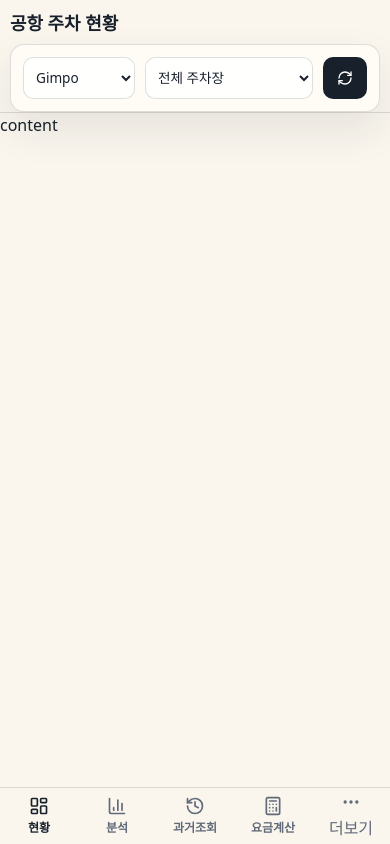
Scenario: AppShell › reveals 백업 through the mobile 더보기 popover
Click the button "더보기".
click(351, 816)  # box top-left (312, 788), bottom-right (389, 843)
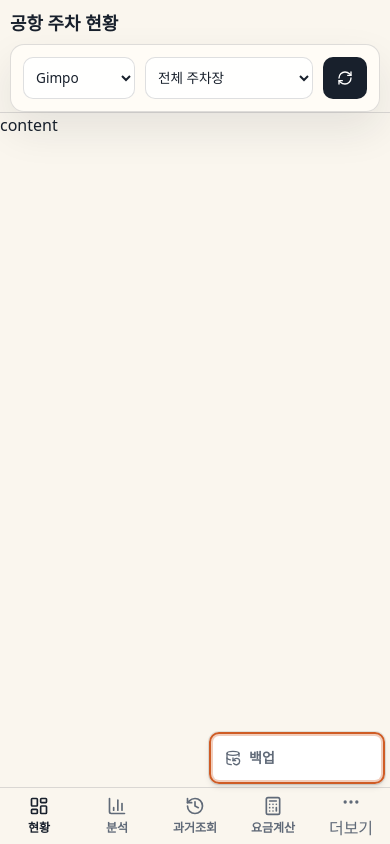
Result: the number of links "백업" is 2
